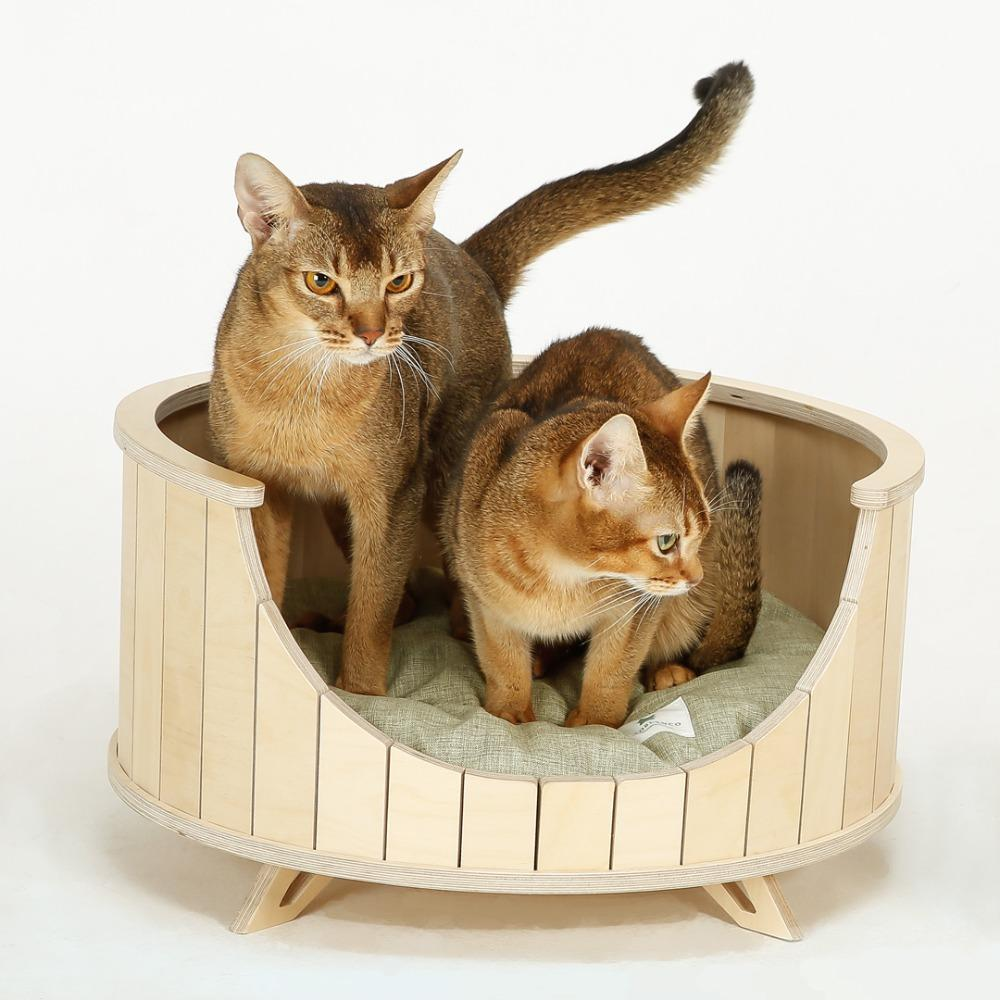cats: (164, 20, 523, 688), (466, 338, 776, 737)
